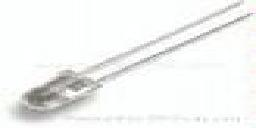LED: (13, 54, 112, 128)
